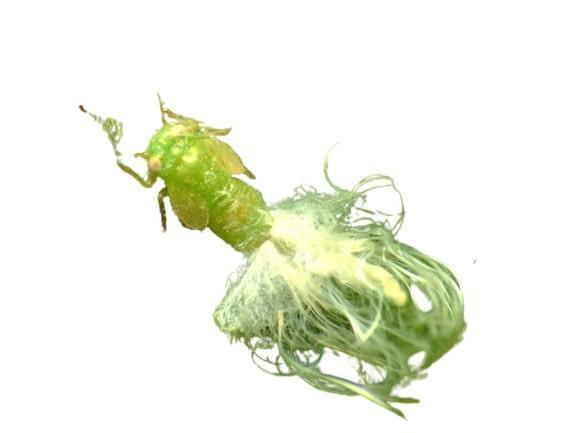Psyllid: (59, 101, 491, 394)
